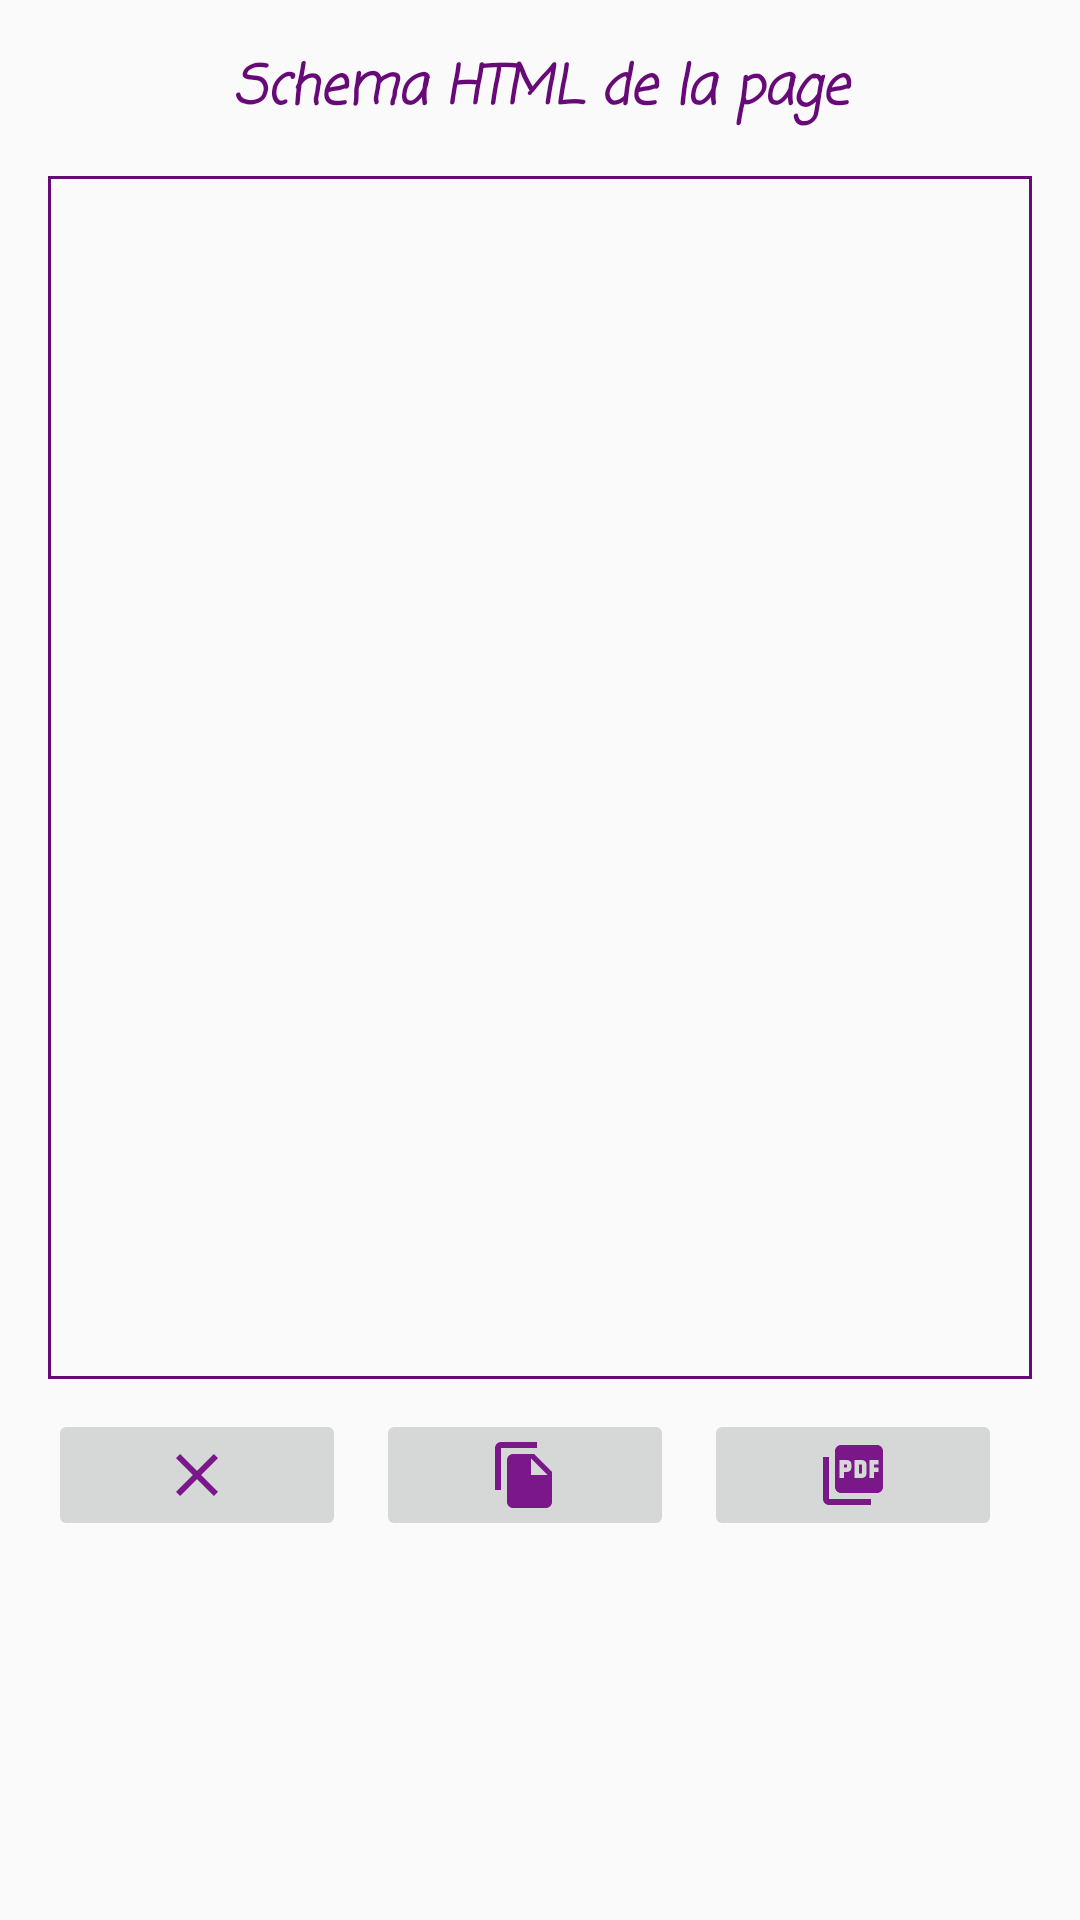

Icon click points for this 1080x1920 phone screenshot, format point (x, y):
copier: point (525, 1475)
fermer: point (197, 1475)
